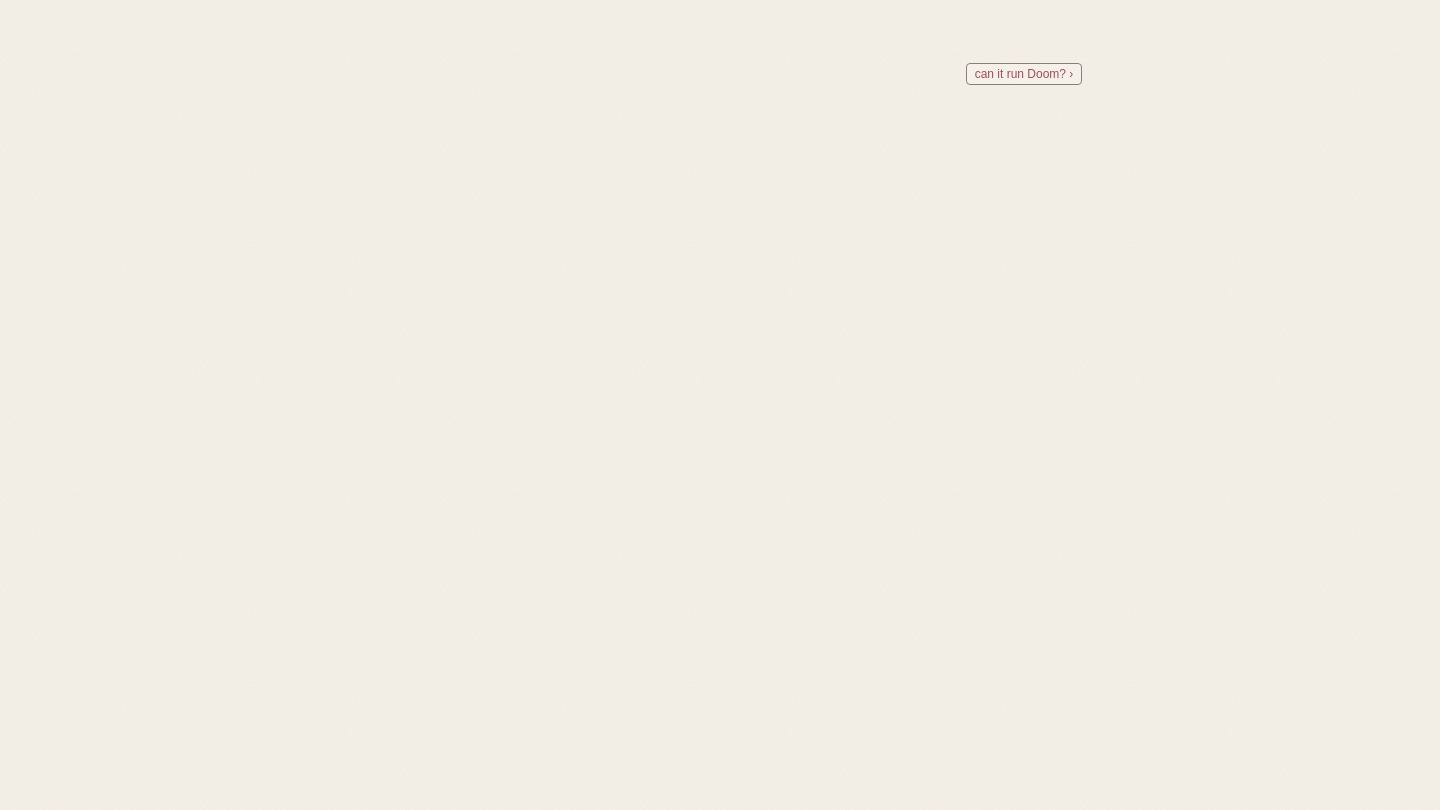
Test: Duke runner in the terminal › starts from the button, focuses the game and runs it
The image size is (1440, 810).
Later steps or results of the test are not shown.
What coordinates should you click on to do the following:
click the button with aria-label "Open the laptop terminal"
I would click on:
 (1024, 74)
Its box is [454,34,1108,88].
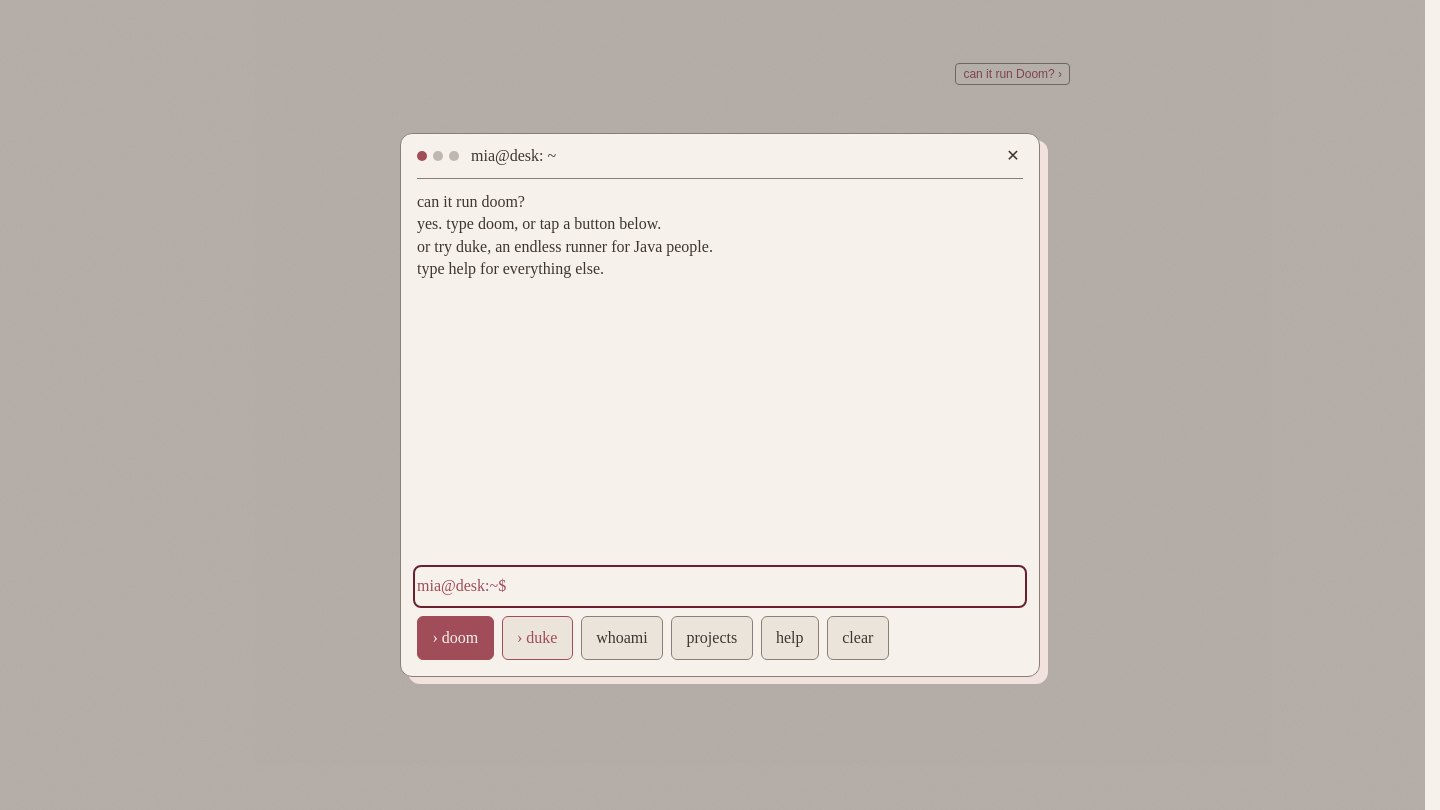
What coordinates should you click on to do the following:
click the button "› duke"
I would click on:
 (537, 638)
Its box is [502,616,573,660].
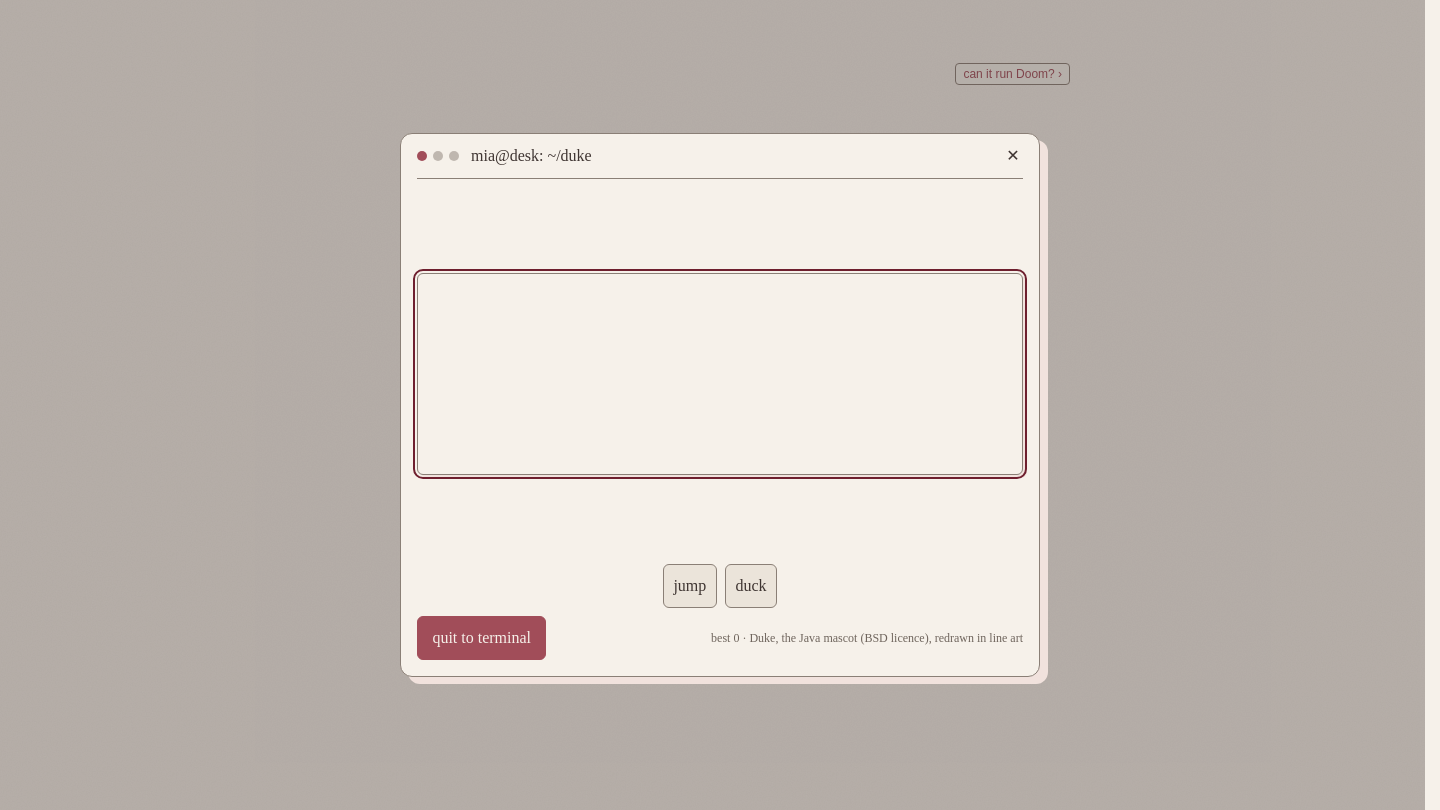
Expected: the heading reads "mia@desk: ~/duke", [471,147,592,164]
Expected: the button "quit to terminal" is shown, [417,616,546,660]
